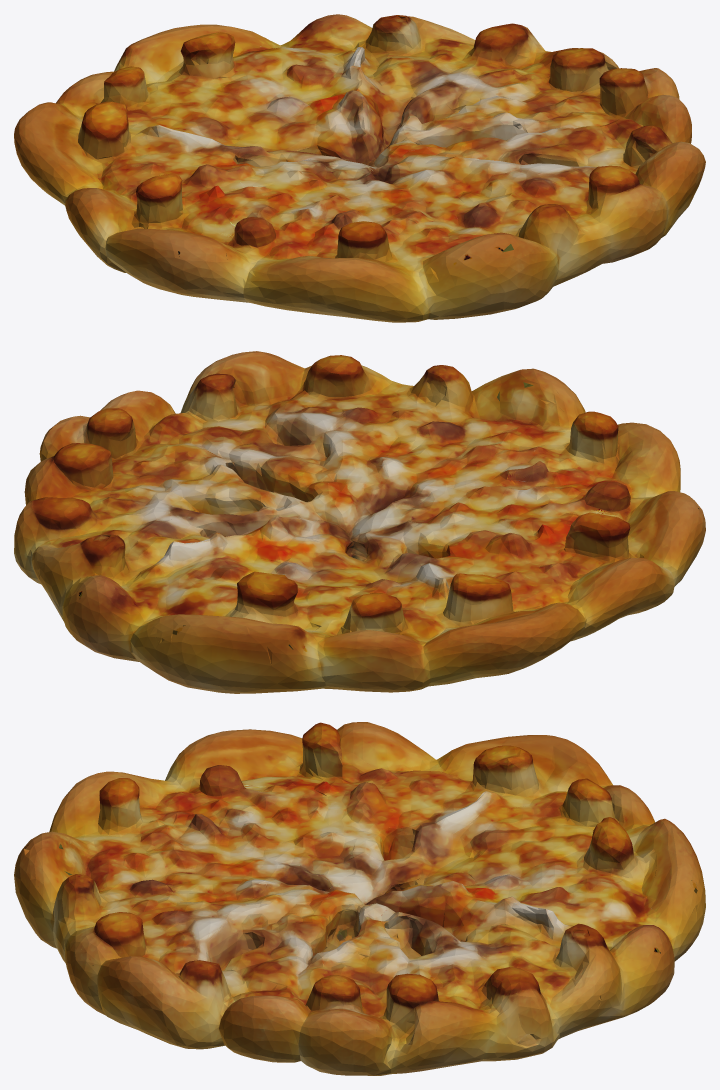
File: bbq chicken-l.glb
The picture shows the model from 3 angles, top to bottom: view 1: azimuth 30°, elevation 25°; view 2: azimuth 150°, elevation 25°; view 3: azimuth 270°, elevation 25°; orthographic projection. The views are drawn at different scales.
Parts seen in each view (by area): view 1: world; view 2: world; view 3: world.
Boxes of the visible parts, box(x1,y1,x2,y2) form: world: box(14, 14, 705, 322); world: box(14, 351, 705, 693); world: box(14, 722, 705, 1075).
Bounding box in the file's own units: 0.3556 × 0.0559 × 0.3457.
Materials: 1 (1 with a texture image).
